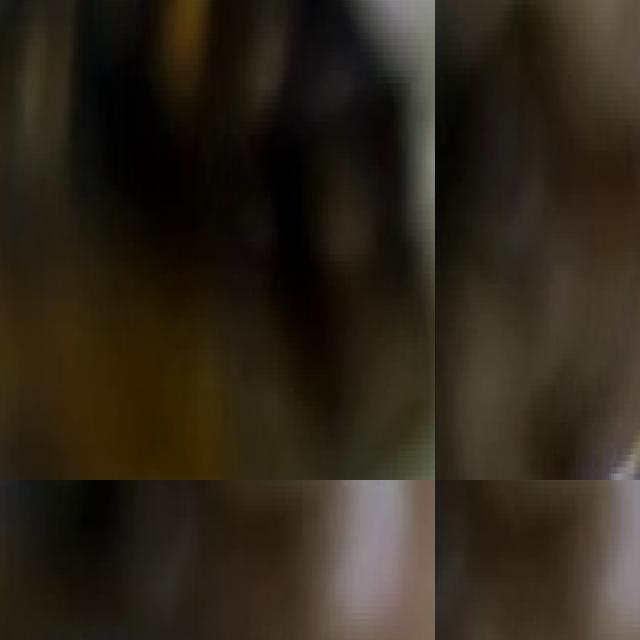fish: (0, 0, 435, 480), (435, 195, 640, 480), (0, 480, 360, 640)
